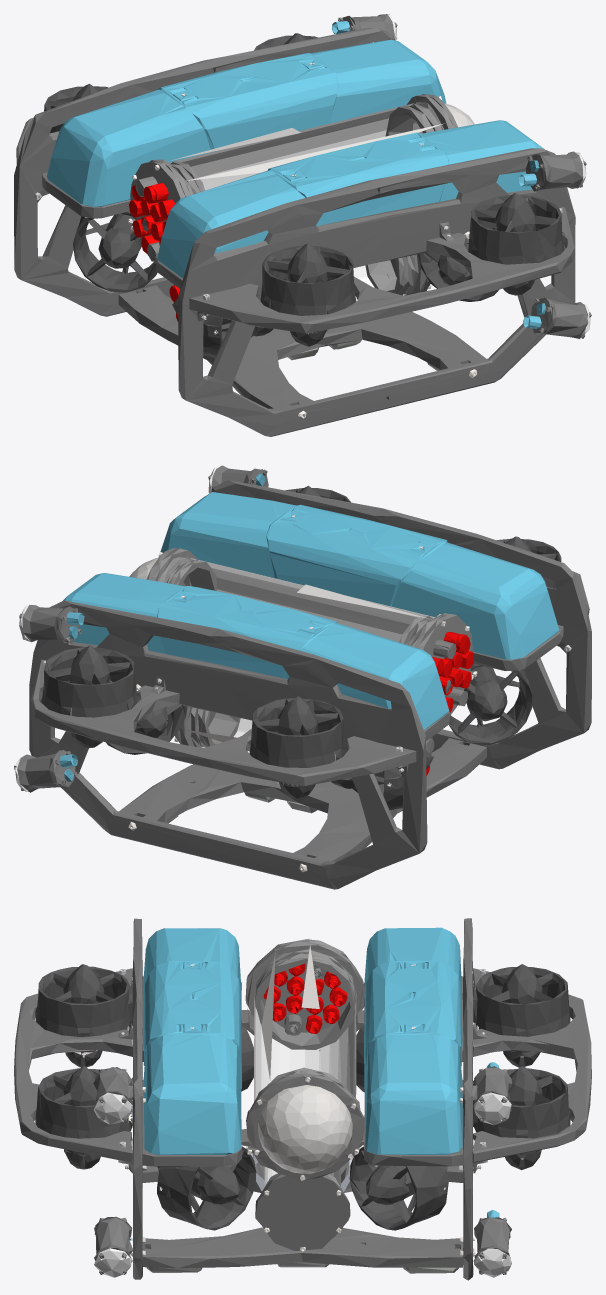
Rendered from bluerov2_heavy.glb.
3 views of the same model, one above another, from view 1: azimuth 30°, elevation 25°; view 2: azimuth 150°, elevation 25°; view 3: azimuth 270°, elevation 25° (orthographic).
Parts seen in each view (by area): view 1: pieza5, pieza14, pieza1, pieza41, pieza7, pieza6, pieza0, pieza2, pieza3, pieza20; view 2: pieza5, pieza14, pieza1, pieza41, pieza7, pieza6, pieza0, pieza2, pieza3; view 3: pieza5, pieza14, pieza1, pieza41, pieza2, pieza6, pieza7, pieza3, pieza19, pieza0, pieza15, pieza10.
Boxes of the visible parts, box(x1,y1,x2,y2) form: pieza5: box(14, 14, 588, 436); pieza14: box(46, 39, 544, 278); pieza1: box(44, 33, 564, 346); pieza41: box(73, 211, 499, 357); pieza7: box(168, 103, 413, 301); pieza6: box(130, 94, 453, 295); pieza0: box(129, 183, 179, 321); pieza2: box(171, 103, 474, 180); pieza3: box(135, 17, 591, 338); pieza20: box(332, 21, 541, 328); pieza5: box(17, 465, 591, 889); pieza14: box(63, 492, 559, 729); pieza1: box(41, 485, 561, 799); pieza41: box(106, 663, 532, 810); pieza7: box(190, 558, 441, 753); pieza6: box(150, 548, 472, 748); pieza0: box(426, 632, 473, 775); pieza2: box(129, 557, 428, 751); pieza3: box(14, 469, 467, 790); pieza5: box(14, 918, 591, 1280); pieza14: box(143, 927, 462, 1154); pieza1: box(35, 964, 570, 1170); pieza41: box(157, 1026, 448, 1230); pieza2: box(81, 944, 523, 1173); pieza6: box(245, 939, 364, 1229); pieza7: box(254, 991, 356, 1187); pieza3: box(99, 964, 506, 1274); pieza19: box(93, 1092, 511, 1277); pieza0: box(263, 963, 347, 1033); pieza15: box(146, 1262, 458, 1273); pieza10: box(130, 938, 475, 1256).
Size of the model in its own units: 0.4516 by 0.2505 by 0.5659.
